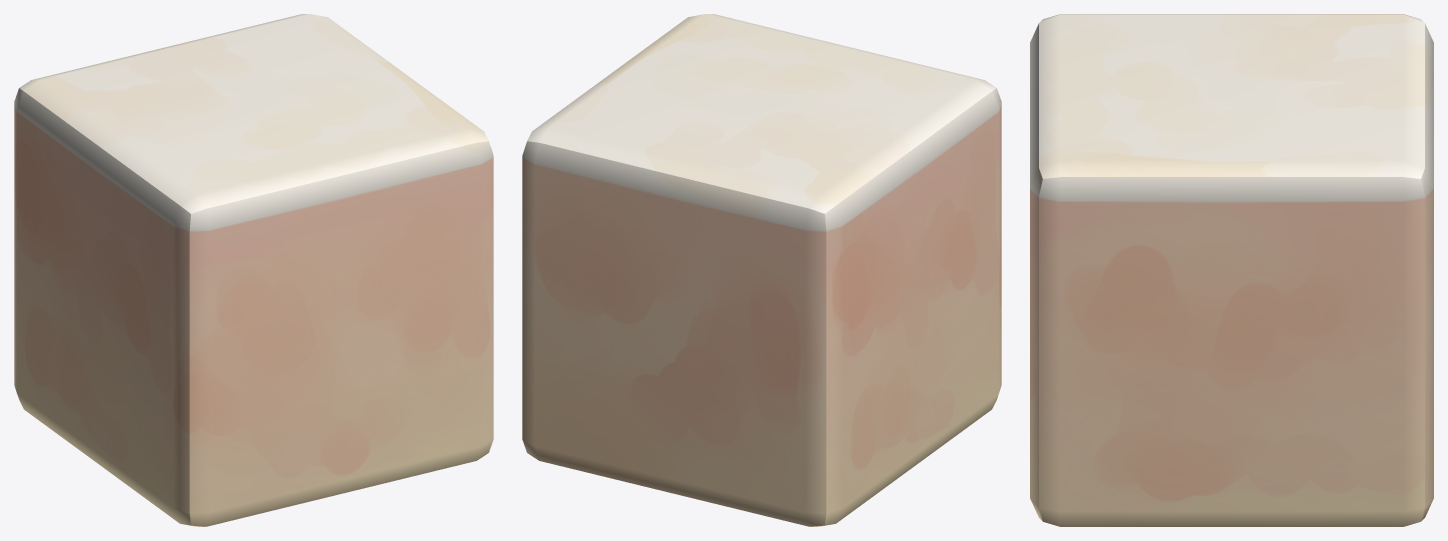
The model's file is normal.fbx.
The picture shows the model from 3 angles, left to right: view 1: azimuth 30°, elevation 25°; view 2: azimuth 150°, elevation 25°; view 3: azimuth 270°, elevation 25°; orthographic projection. The views are drawn at different scales.
Parts seen in each view (by area): view 1: pCube9; view 2: pCube9; view 3: pCube9.
Boxes of the visible parts, x1,y1,x2,y2 form: pCube9: [14, 14, 493, 526]; pCube9: [522, 14, 1001, 526]; pCube9: [1030, 14, 1433, 526].
Size of the model in its own units: 5 by 5 by 5.
Materials: 1 (1 with a texture image).
